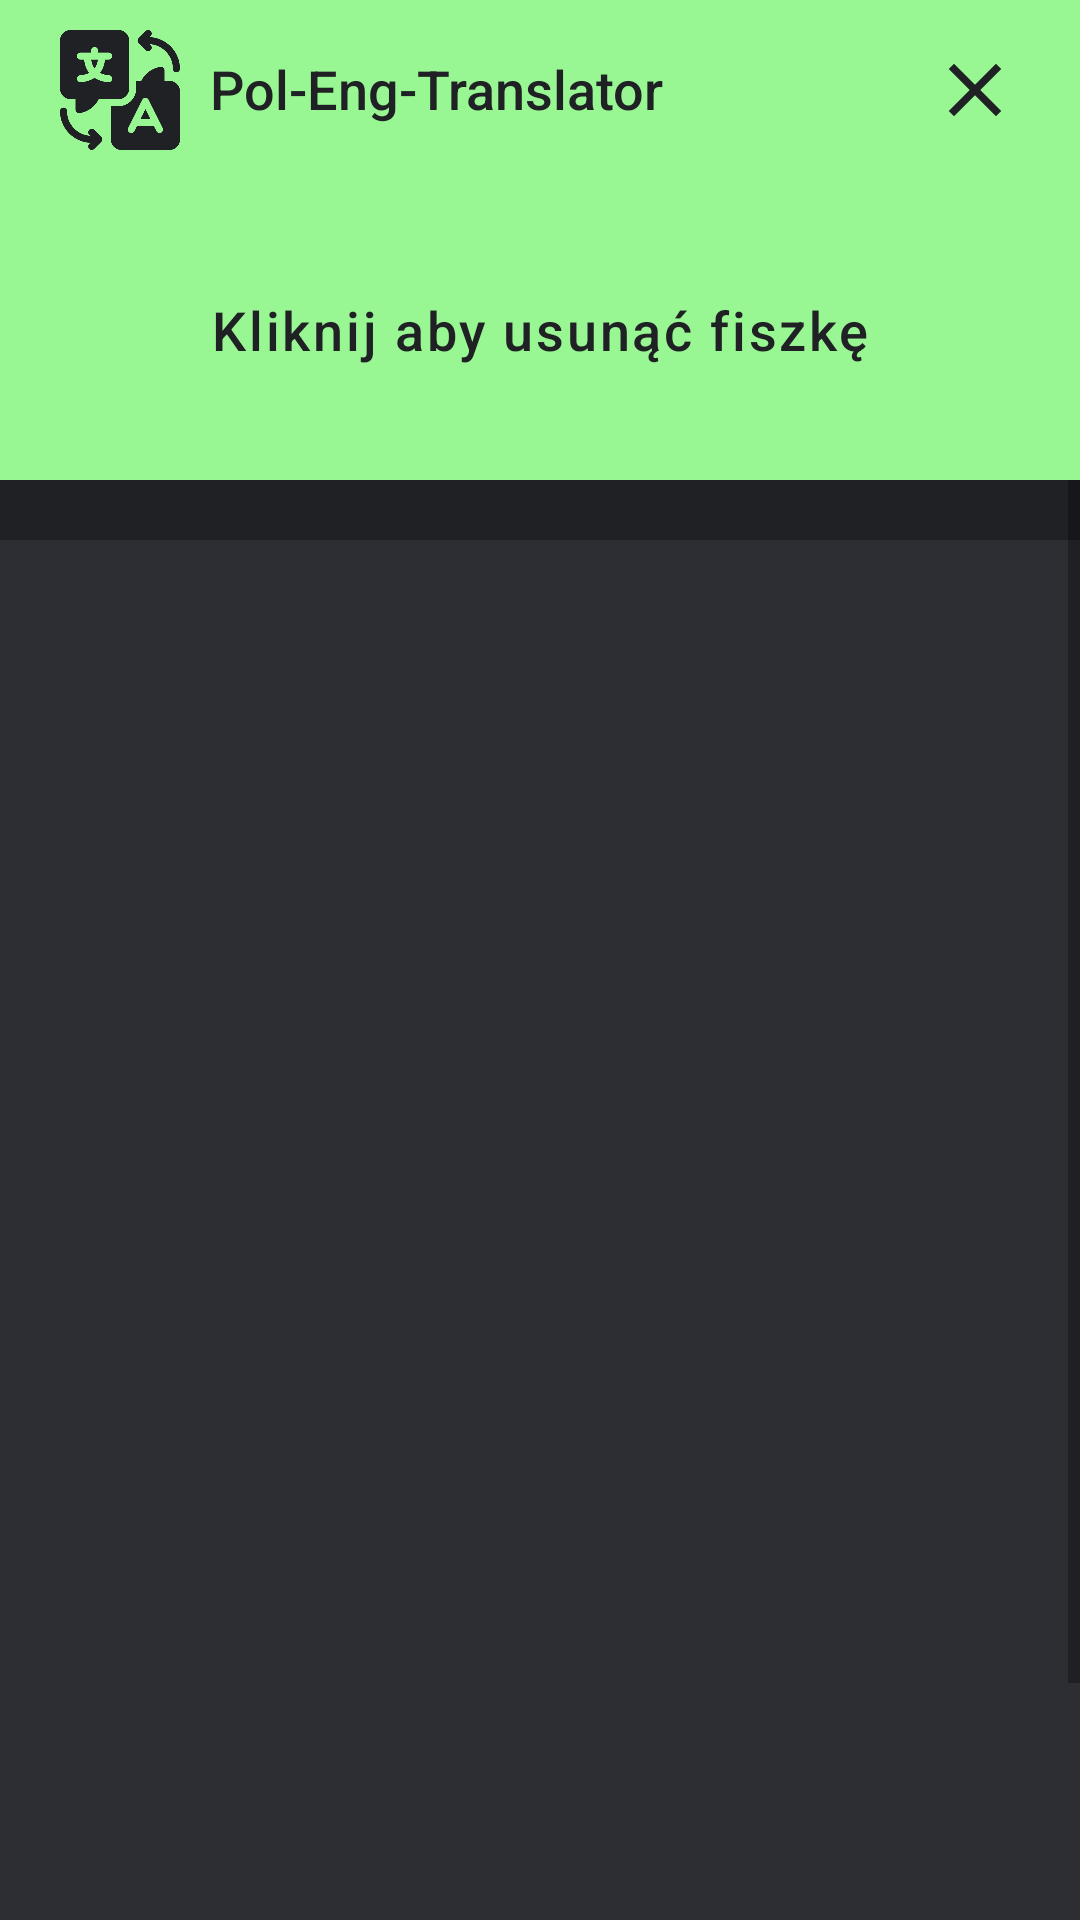

Where to tap for icons on this 1080 x 1920 app screen, as (x=x, y=y):
clear: (x=975, y=90)
translation: (x=120, y=90)
